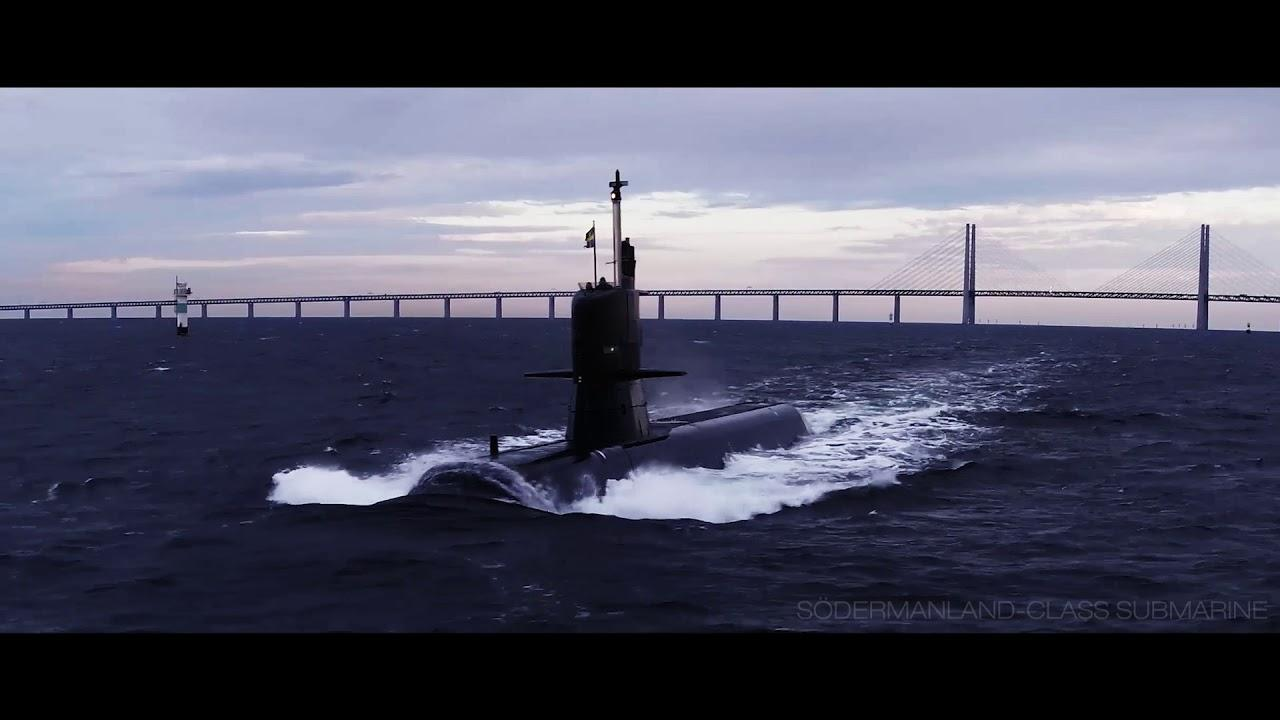Submarine: (277, 162, 882, 600)
